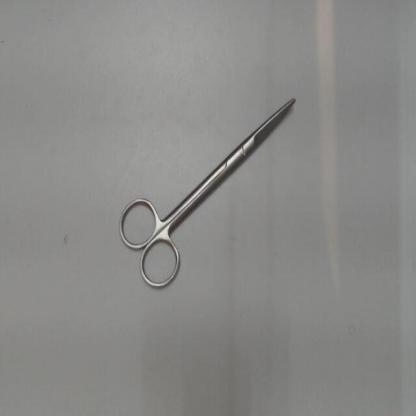Curved Mayo Scissors: (112, 89, 301, 298)
